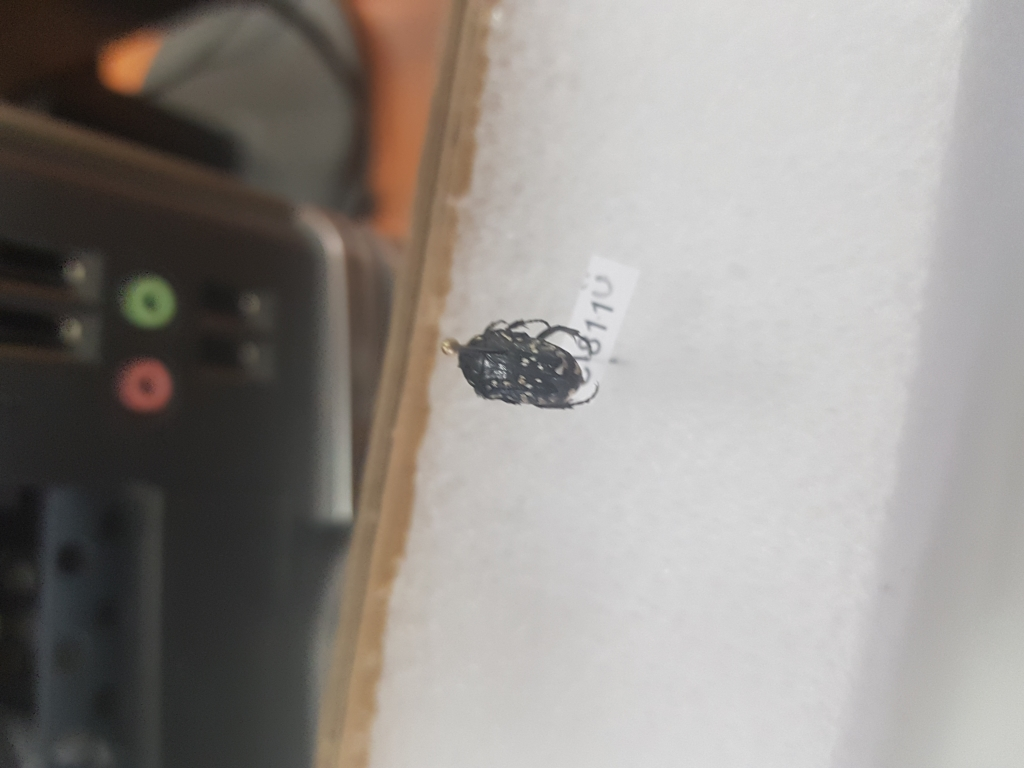Oxythyrea_albopicta: (453, 313, 605, 420)
